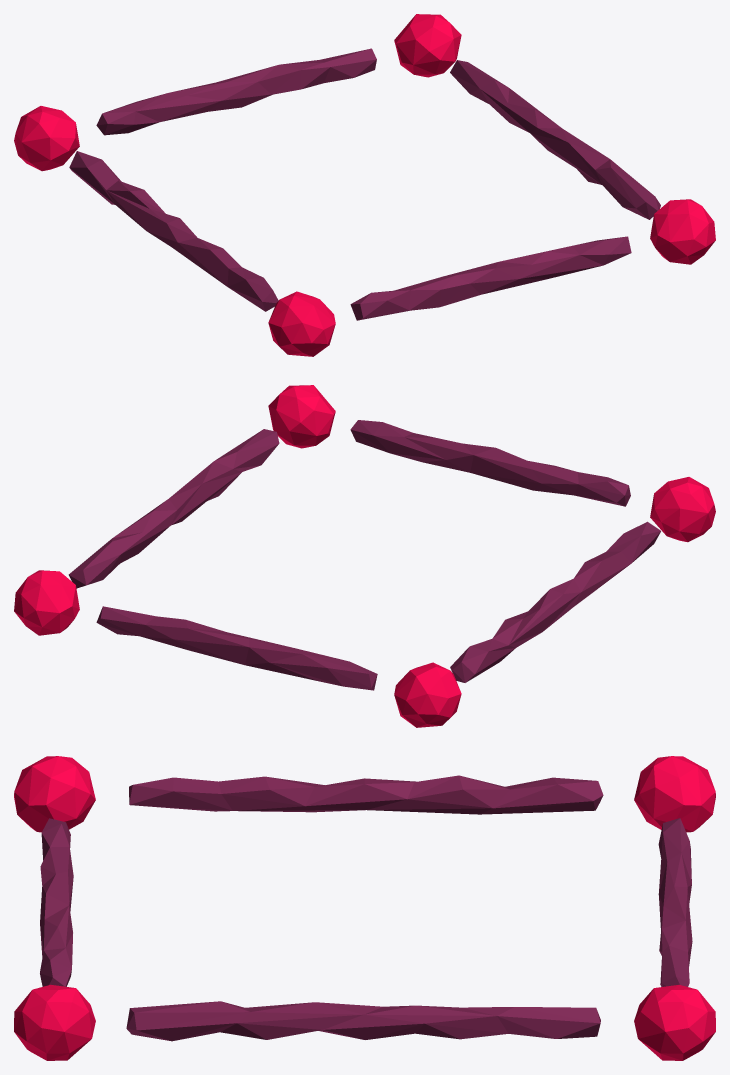
File: frame.fbx
3 renders of one model, top to bottom at view 1: azimuth 30°, elevation 25°; view 2: azimuth 150°, elevation 25°; view 3: azimuth 270°, elevation 25°, orthographic. The views are drawn at different scales.
Visible parts, largest first — view 1: Frame - Sphere, Frame - Stick Horizontal Up, Frame - Stick Horizontal Down, Frame - Stick Vertical Left, Frame - Stick Vertical Right; view 2: Frame - Sphere, Frame - Stick Horizontal Down, Frame - Stick Horizontal Up, Frame - Stick Vertical Left, Frame - Stick Vertical Right; view 3: Frame - Sphere, Frame - Stick Vertical Left, Frame - Stick Vertical Right, Frame - Stick Horizontal Down, Frame - Stick Horizontal Up.
Part boxes in pixels (bbox=[...]): Frame - Sphere: bbox=[14, 14, 715, 356]; Frame - Stick Horizontal Up: bbox=[96, 48, 376, 135]; Frame - Stick Horizontal Down: bbox=[350, 236, 631, 320]; Frame - Stick Vertical Left: bbox=[69, 151, 278, 311]; Frame - Stick Vertical Right: bbox=[450, 60, 660, 219]; Frame - Sphere: bbox=[14, 385, 715, 727]; Frame - Stick Horizontal Down: bbox=[350, 420, 630, 506]; Frame - Stick Horizontal Up: bbox=[96, 606, 377, 690]; Frame - Stick Vertical Left: bbox=[450, 521, 660, 682]; Frame - Stick Vertical Right: bbox=[68, 429, 279, 588]; Frame - Sphere: bbox=[14, 756, 715, 1060]; Frame - Stick Vertical Left: bbox=[129, 775, 603, 814]; Frame - Stick Vertical Right: bbox=[126, 1001, 600, 1041]; Frame - Stick Horizontal Down: bbox=[40, 818, 73, 986]; Frame - Stick Horizontal Up: bbox=[658, 818, 692, 986].
Size of the model in its own units: 15 by 1.95 by 17.02.
